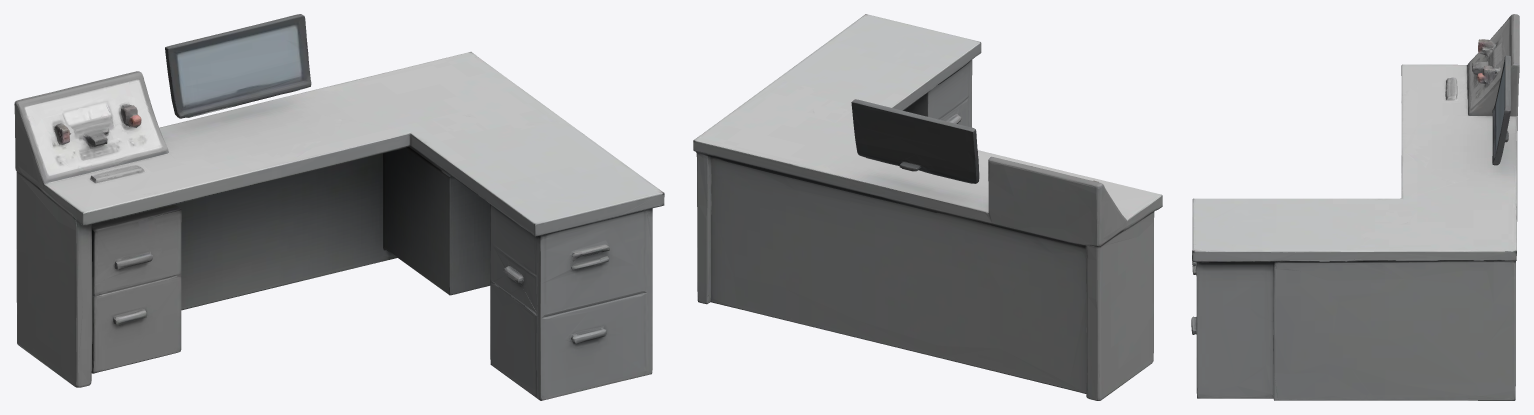
3 renders of one model, left to right at view 1: azimuth 30°, elevation 25°; view 2: azimuth 150°, elevation 25°; view 3: azimuth 270°, elevation 25°, orthographic. The views are drawn at different scales.
Visible parts, largest first — view 1: geometry_0; view 2: geometry_0; view 3: geometry_0.
Boxes of the visible parts, left/top/right/bottom form: geometry_0: left=14, top=14, right=664, bottom=400; geometry_0: left=693, top=14, right=1162, bottom=400; geometry_0: left=1191, top=14, right=1519, bottom=400.
Size of the model in its own units: 0.9977 by 0.5532 by 0.7408.
1 material, 1 textured.
